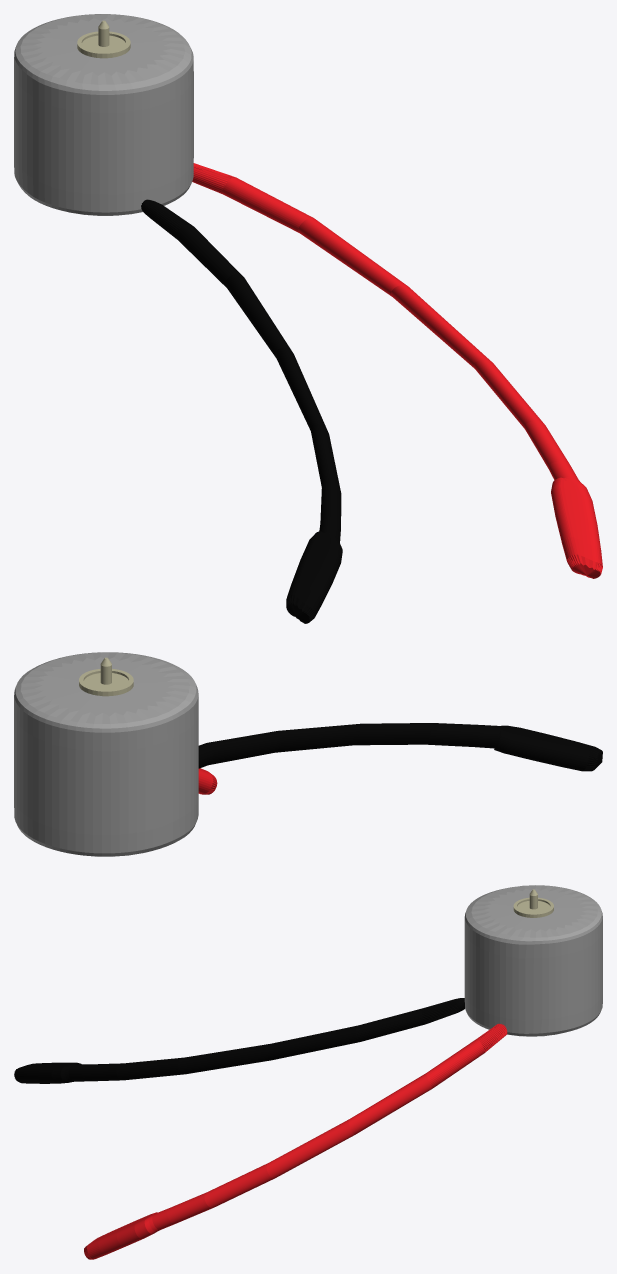
The model's file is MotorGrosso.fbx.
3 views of the same model, one above another, from view 1: azimuth 30°, elevation 25°; view 2: azimuth 150°, elevation 25°; view 3: azimuth 270°, elevation 25° (orthographic). The views are drawn at different scales.
Parts seen in each view (by area): view 1: Cylinder.001, Cylinder; view 2: Cylinder.001, Cylinder; view 3: Cylinder.001, Cylinder.
Boxes of the visible parts, x1=… form: Cylinder.001: x1=14, y1=14, x2=602, y2=623; Cylinder: x1=77, y1=20, x2=130, y2=58; Cylinder.001: x1=14, y1=652, x2=602, y2=856; Cylinder: x1=79, y1=657, x2=133, y2=696; Cylinder.001: x1=14, y1=885, x2=602, y2=1259; Cylinder: x1=513, y1=889, x2=553, y2=917.
Size of the model in its own units: 486 by 484 by 872.
